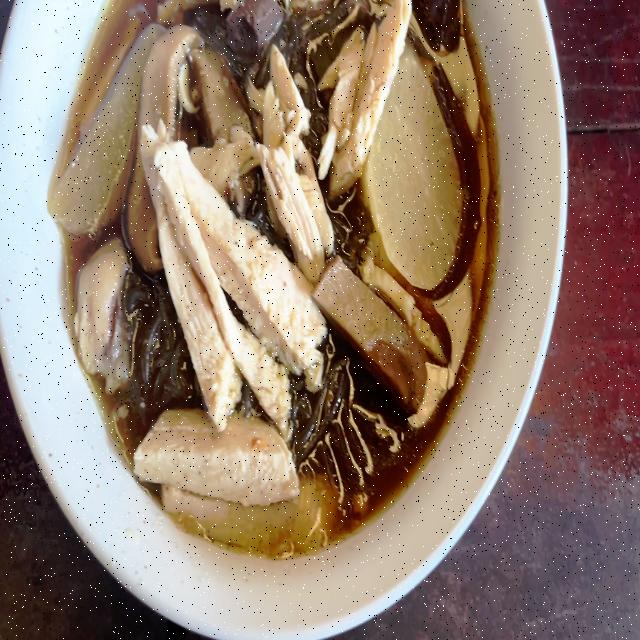boiled_chicken_blood_jelly: (225, 0, 283, 58), (413, 0, 461, 52)
chicken_shredded: (149, 141, 320, 416), (117, 416, 329, 549), (334, 0, 405, 194), (267, 54, 328, 260), (69, 243, 130, 368)
daikon_radish: (36, 18, 149, 234), (386, 98, 452, 278)
noodle: (69, 0, 487, 536)
